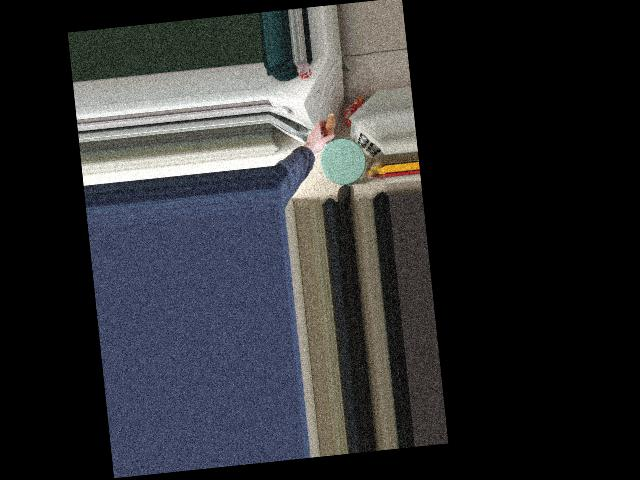sweet_potato: (313, 113, 337, 151)
